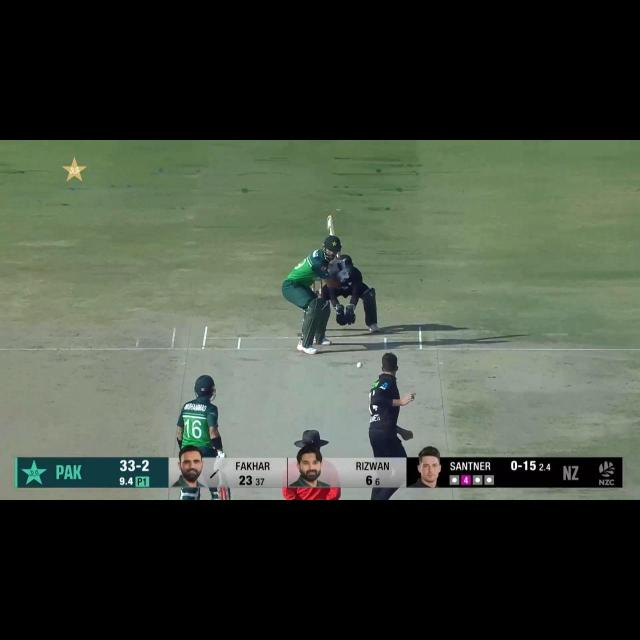bat: (326, 214, 338, 236)
toe: (217, 486, 232, 500), (322, 210, 335, 222)
